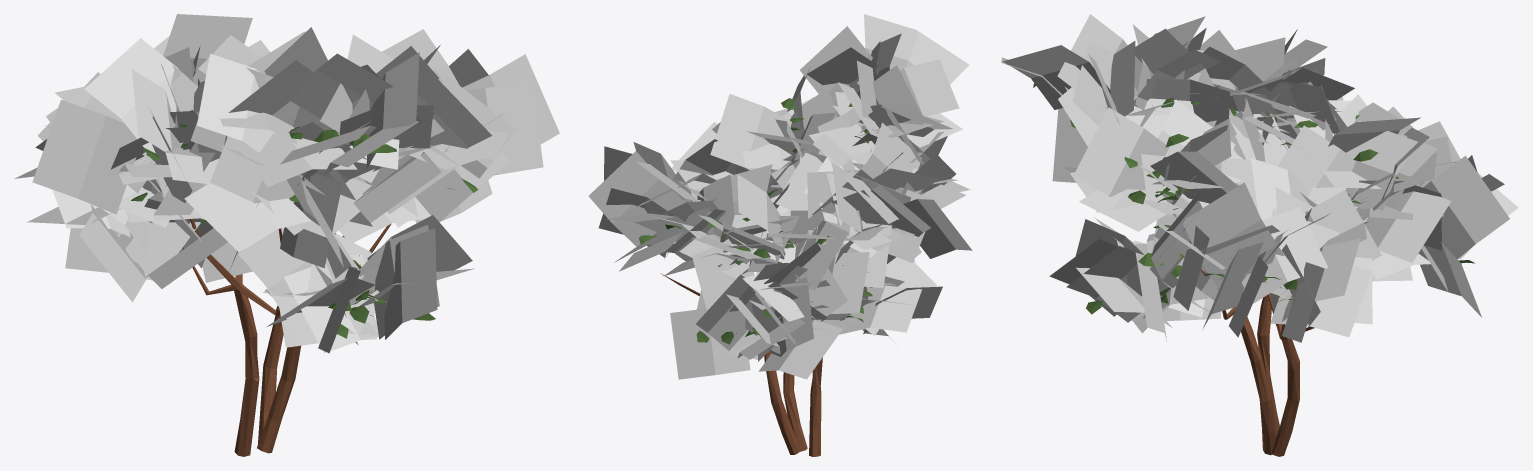
The model's file is Arbousier_Ancien_LOD2.fbx.
3 views of the same model, side by side, from view 1: azimuth 30°, elevation 25°; view 2: azimuth 150°, elevation 25°; view 3: azimuth 270°, elevation 25° (orthographic). The views are drawn at different scales.
Visible parts, largest first — view 1: Arbousier_Ancien_LOD2; view 2: Arbousier_Ancien_LOD2; view 3: Arbousier_Ancien_LOD2.
Part boxes in pixels (bbox=[...]): Arbousier_Ancien_LOD2: bbox=[14, 14, 559, 456]; Arbousier_Ancien_LOD2: bbox=[588, 14, 972, 456]; Arbousier_Ancien_LOD2: bbox=[1001, 14, 1518, 456].
Bounding box in the file's own units: 533 × 485 × 534.
